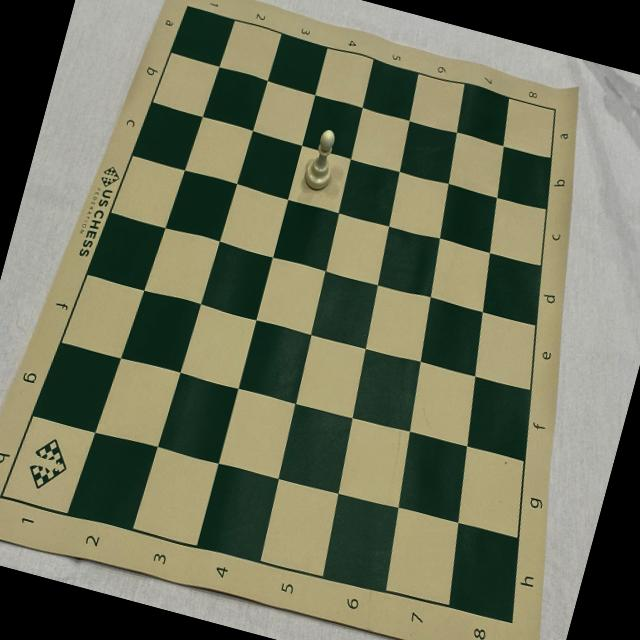white-pawn: (300, 124, 344, 194)
